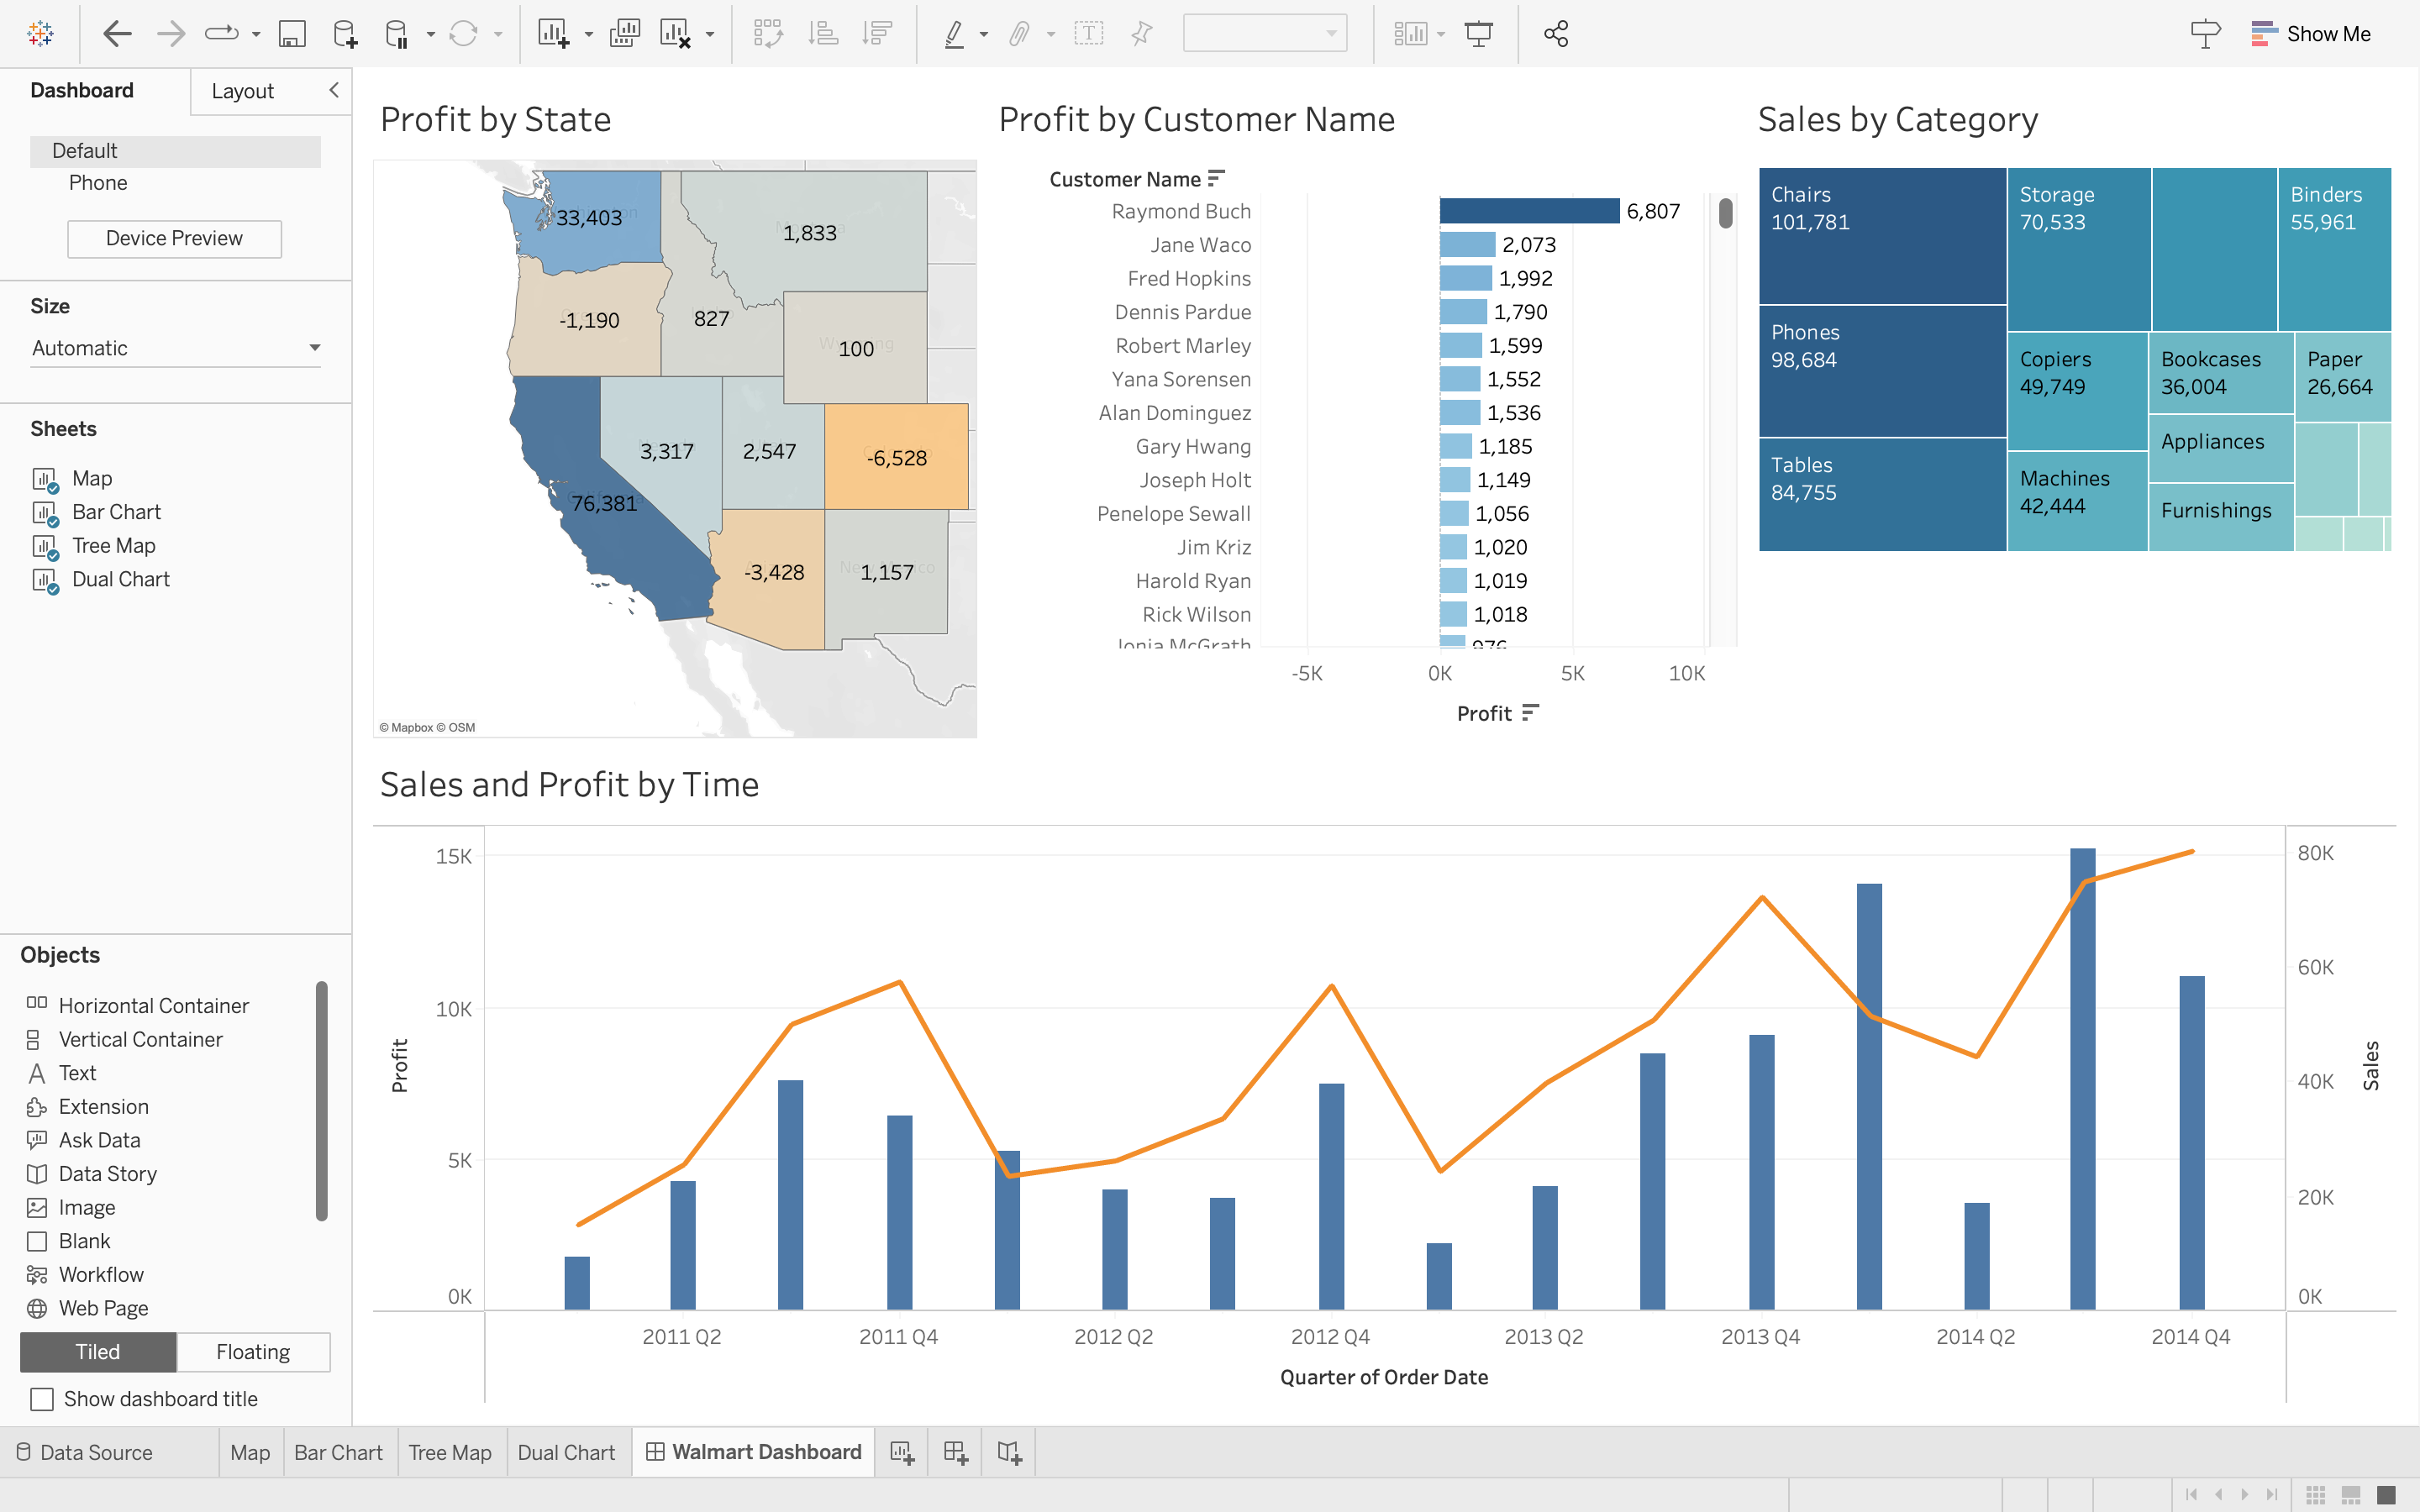

What the dashboard file says about the page in this screenshot:
{"tool":"tableau","page":{"name":"Walmart Dashboard","canvas":[1000,1000],"units":"permille","ordinal":0},"visuals":[{"type":"worksheet","title":"Map","mark":"Automatic","box":[6.3,9.9,303.8,490.1]},{"type":"worksheet","title":"Bar Chart","mark":"Automatic","rows":["Customer Name"],"cols":["Profit"],"box":[310.2,9.9,372.9,490.1]},{"type":"worksheet","title":"Tree Map","mark":"Automatic","box":[683,9.9,310.7,450.5]},{"type":"worksheet","title":"Dual Chart","mark":"Automatic","rows":["Profit","Sales"],"cols":["Order Date"],"box":[6.3,500,987.4,490.1]}]}

Visuals, with their boxes on the dashboard's canvas, which has no fixed pixel size, in thousandths of its width and height (x1, y1, x2, y2). These are canvas units, not pixel positions in the 2420x1512 screenshot, which may show the page scaled, cropped or inside an application window:
"Map" worksheet: (6, 10, 310, 500)
"Bar Chart" worksheet: (310, 10, 683, 500)
"Tree Map" worksheet: (683, 10, 994, 460)
"Dual Chart" worksheet: (6, 500, 994, 990)
